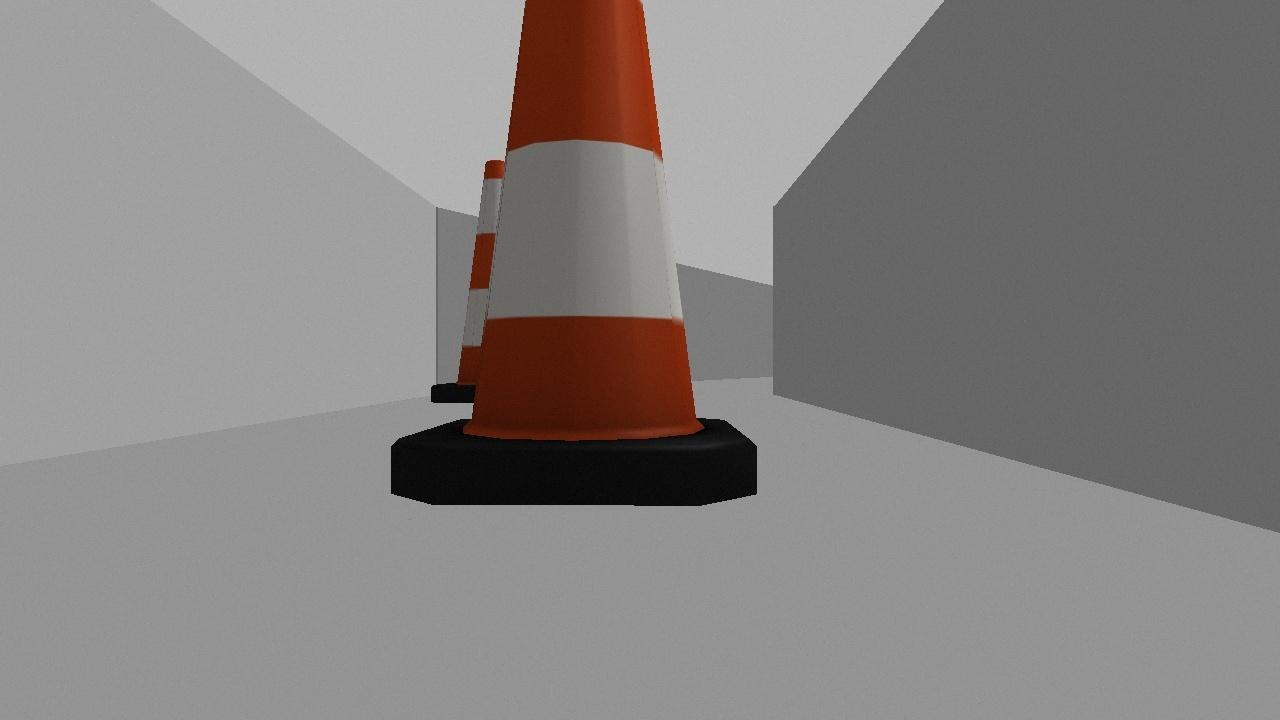cone_barrel: (360, 0, 792, 525), (424, 151, 558, 413)
